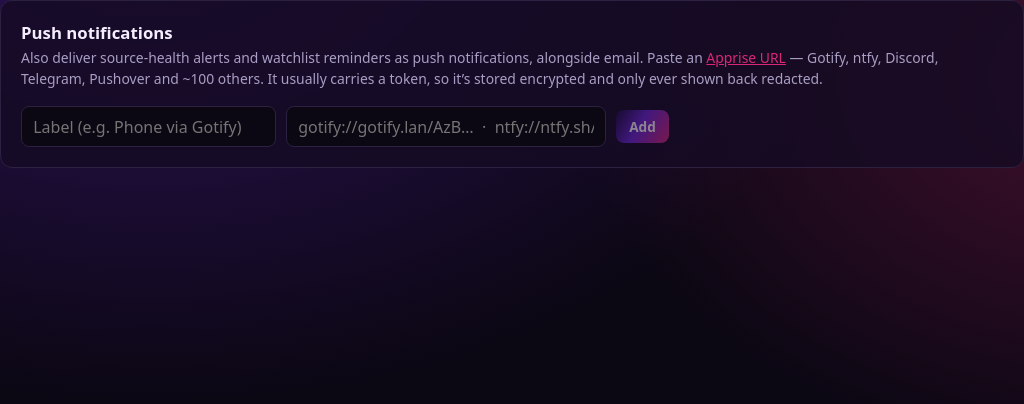
Test case: adds a target and shows it in the list
The image size is (1024, 404).
In the field with placeholder "Label (e.g. Phone via Gotify)": (149, 127) x1=21 y1=106 x2=276 y2=147, type "Desk Gotify"
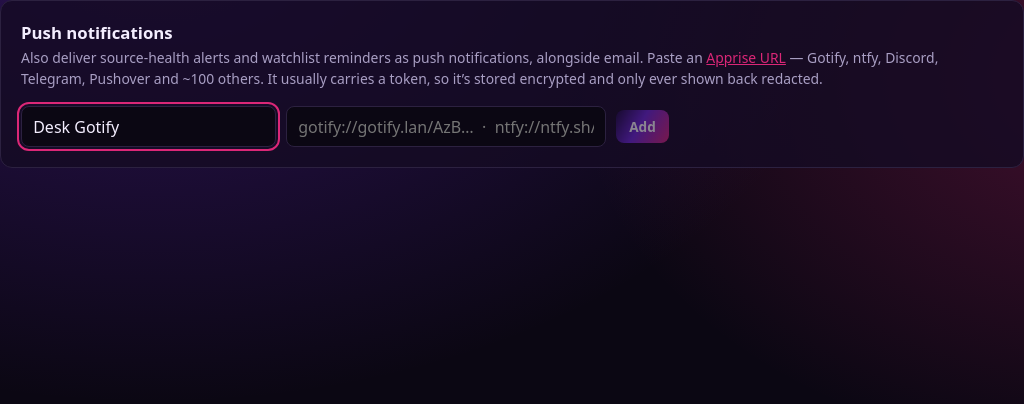
In the field with placeholder "gotify://gotify.lan/AzB… · ntfy://ntfy.sh/my-topic": (446, 127) x1=286 y1=106 x2=606 y2=147, type "gotify://gotify.lan/AbCdToken"
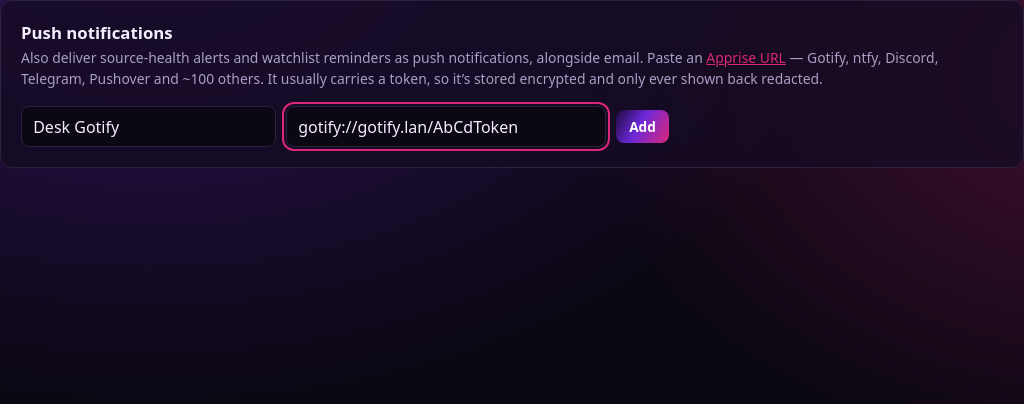
Click the button "Add": (642, 127) x1=616 y1=110 x2=669 y2=143
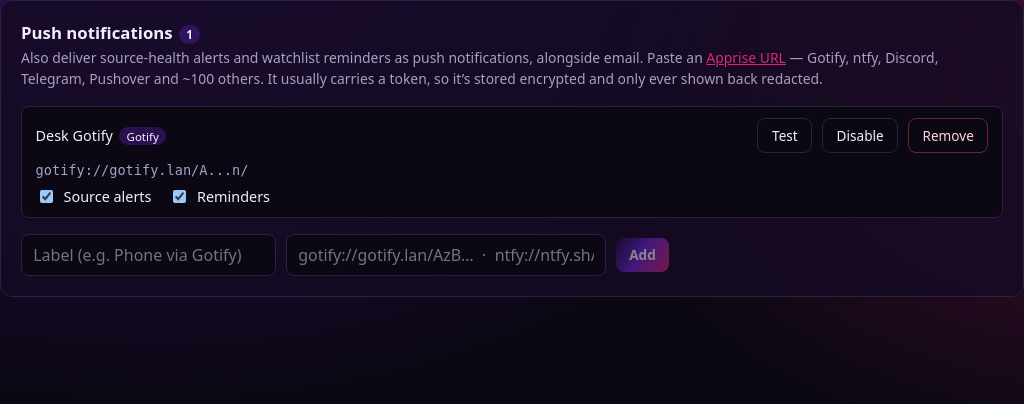
Result: the text "Desk Gotify" is shown at x1=36 y1=126 x2=113 y2=145
Result: the text "Gotify" is shown at x1=119 y1=127 x2=166 y2=145
